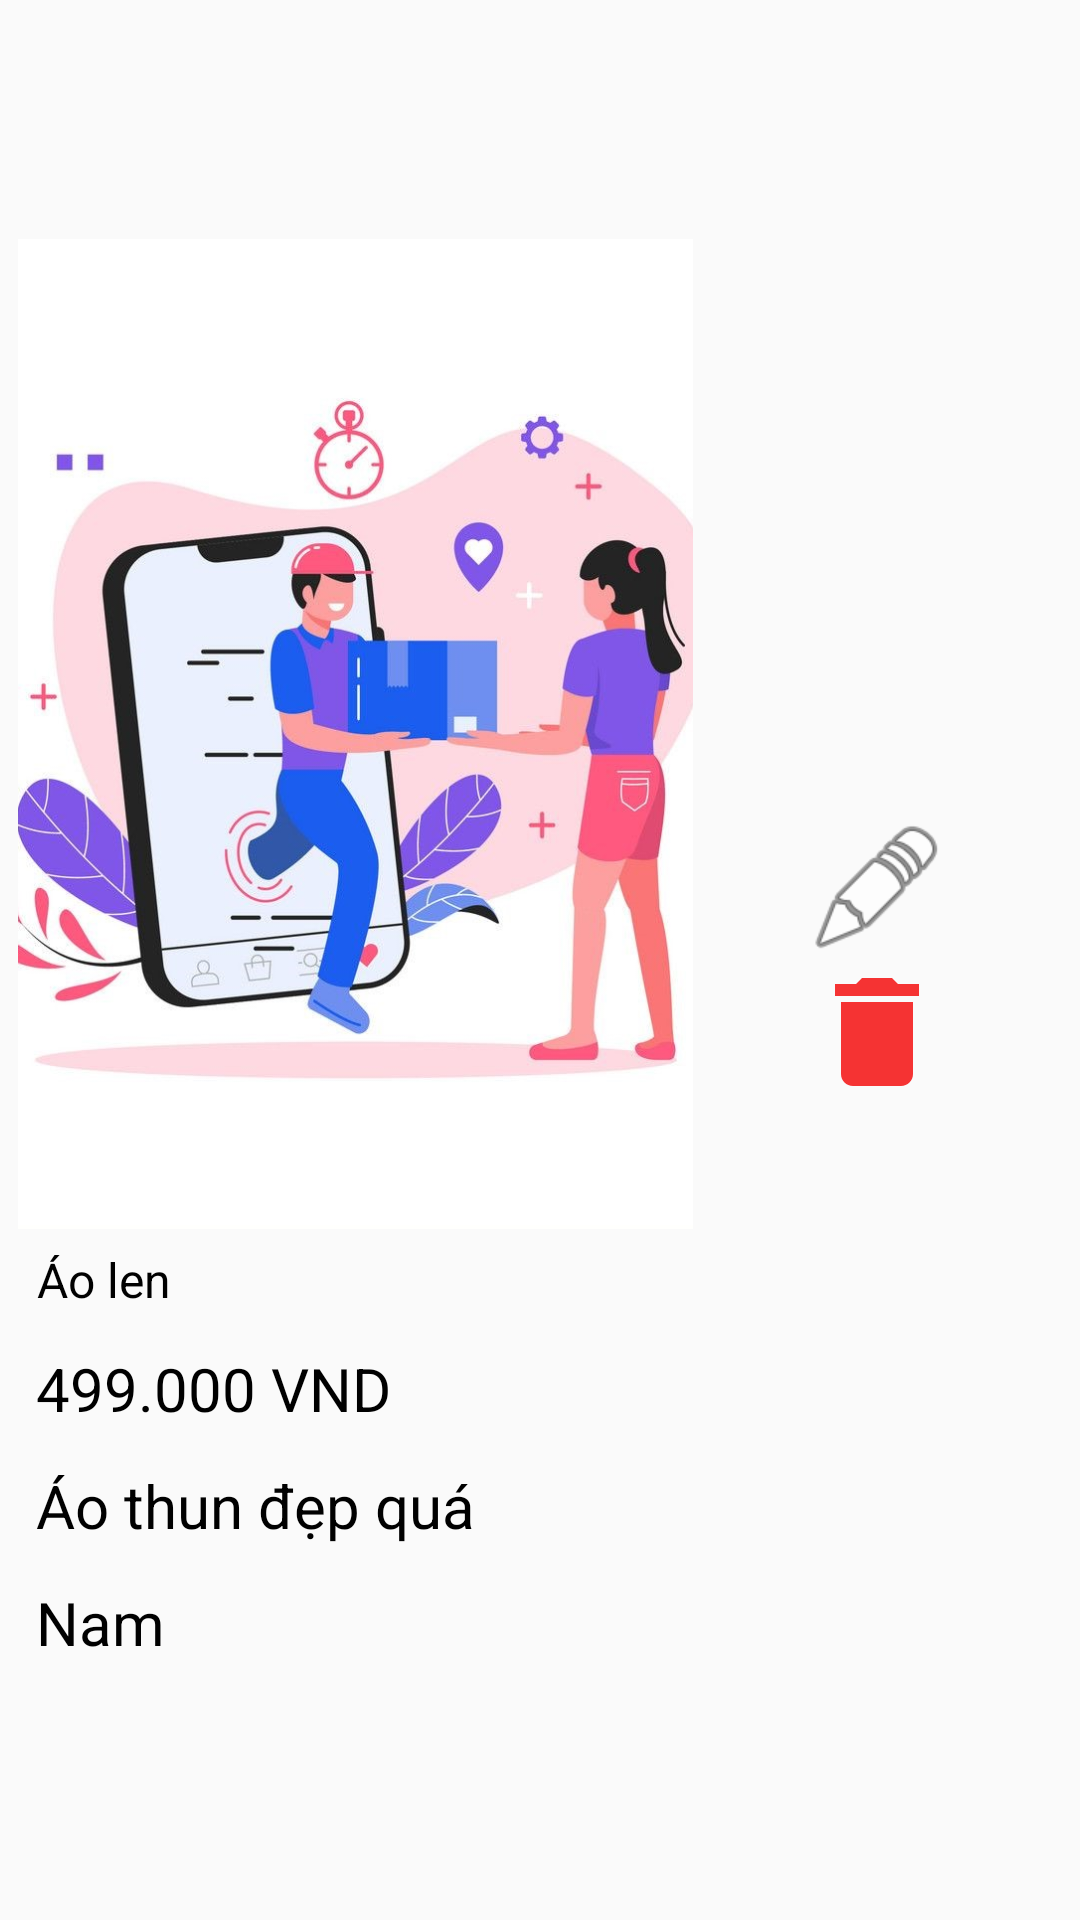

Named icons in this screenshot (1080x1920) and their centers, point (x, y):
edit: point (876, 887)
